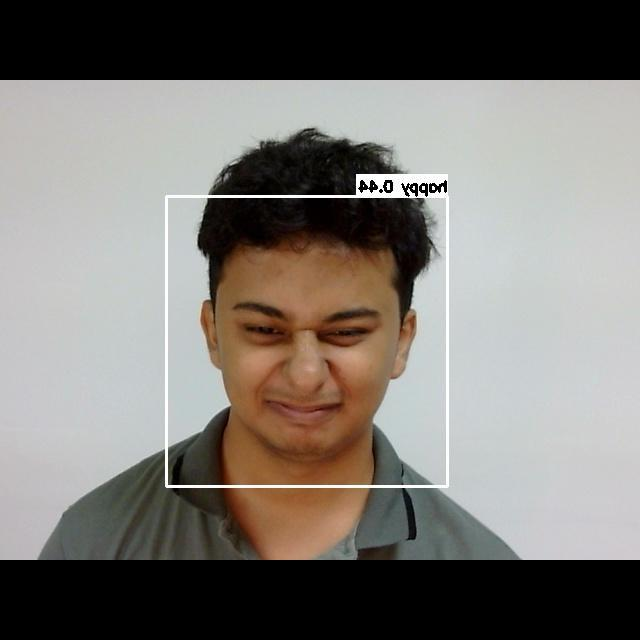Angry: (226, 289, 399, 440)
